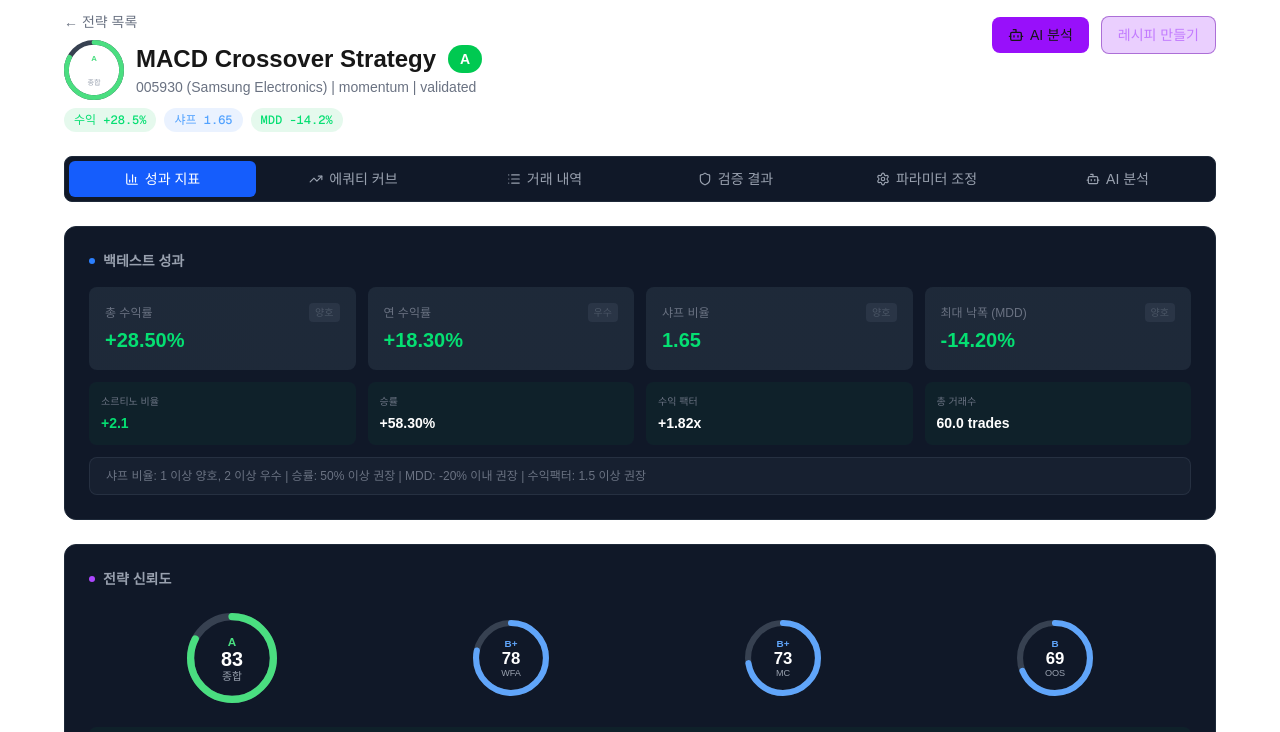
Scenario: StrategyDetailPage › switches to trades tab and shows trade log
What coordinates should you click on to do the following:
click the button "거래 내역"
I would click on:
 (544, 179)
Its box is [451,161,638,197].
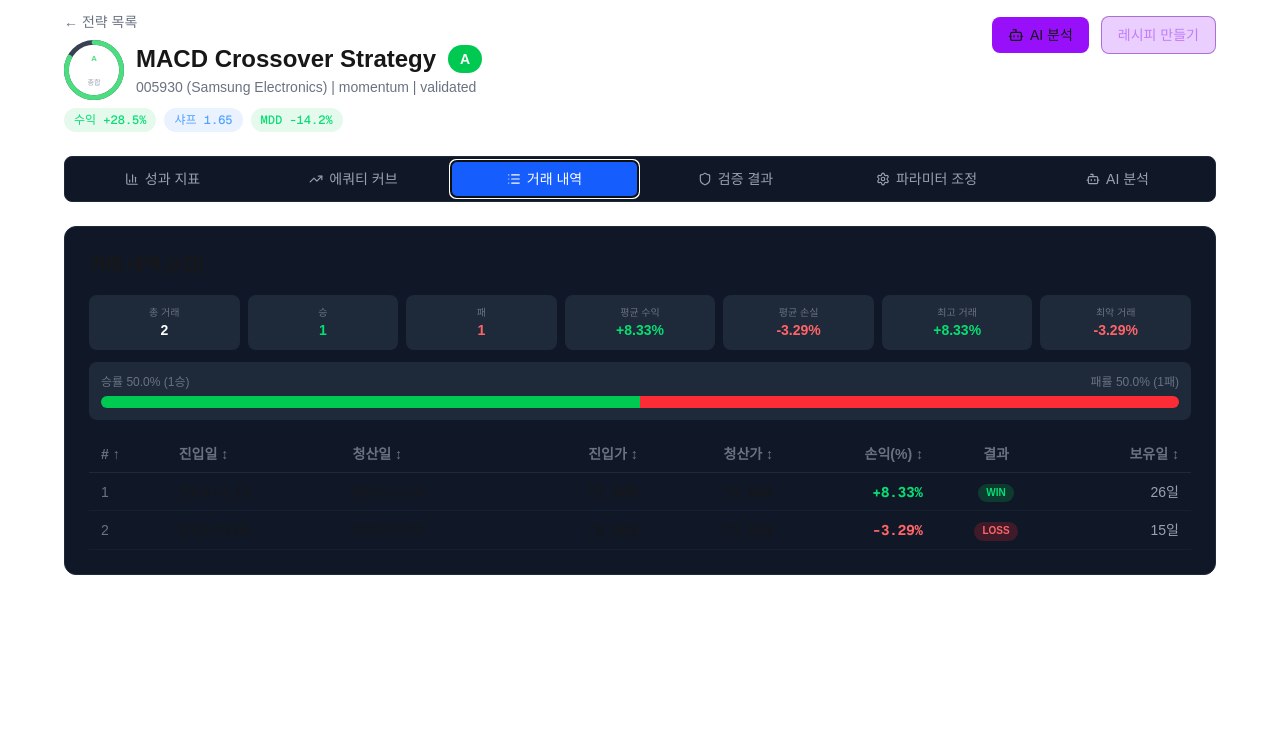
Now the column heading "진입일 ↕" is shown, box [167,436,340,472]
Now the column heading "청산일 ↕" is shown, box [340,436,514,472]
Now the column heading "손익(%) ↕" is shown, box [785,436,935,472]
